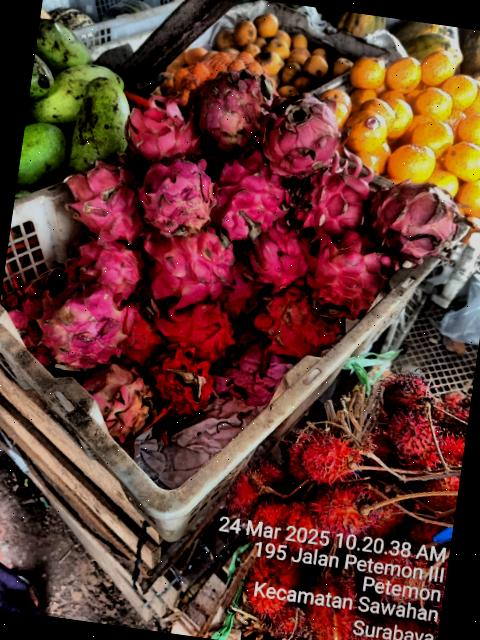buah-naga-belum-matang: (32, 277, 128, 375), (305, 230, 389, 323), (72, 361, 156, 443)
buah-naga-matang: (360, 167, 464, 269), (139, 215, 240, 308), (203, 143, 294, 237), (132, 149, 222, 241), (256, 87, 342, 178), (59, 160, 152, 242), (191, 68, 272, 148), (294, 156, 372, 238), (143, 337, 220, 420), (114, 89, 206, 157), (56, 228, 144, 298), (255, 291, 345, 358), (150, 296, 252, 354), (237, 218, 312, 295)
